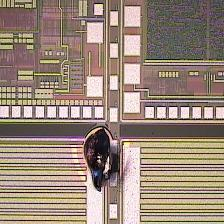PARTICLE: (72, 120, 143, 197)
